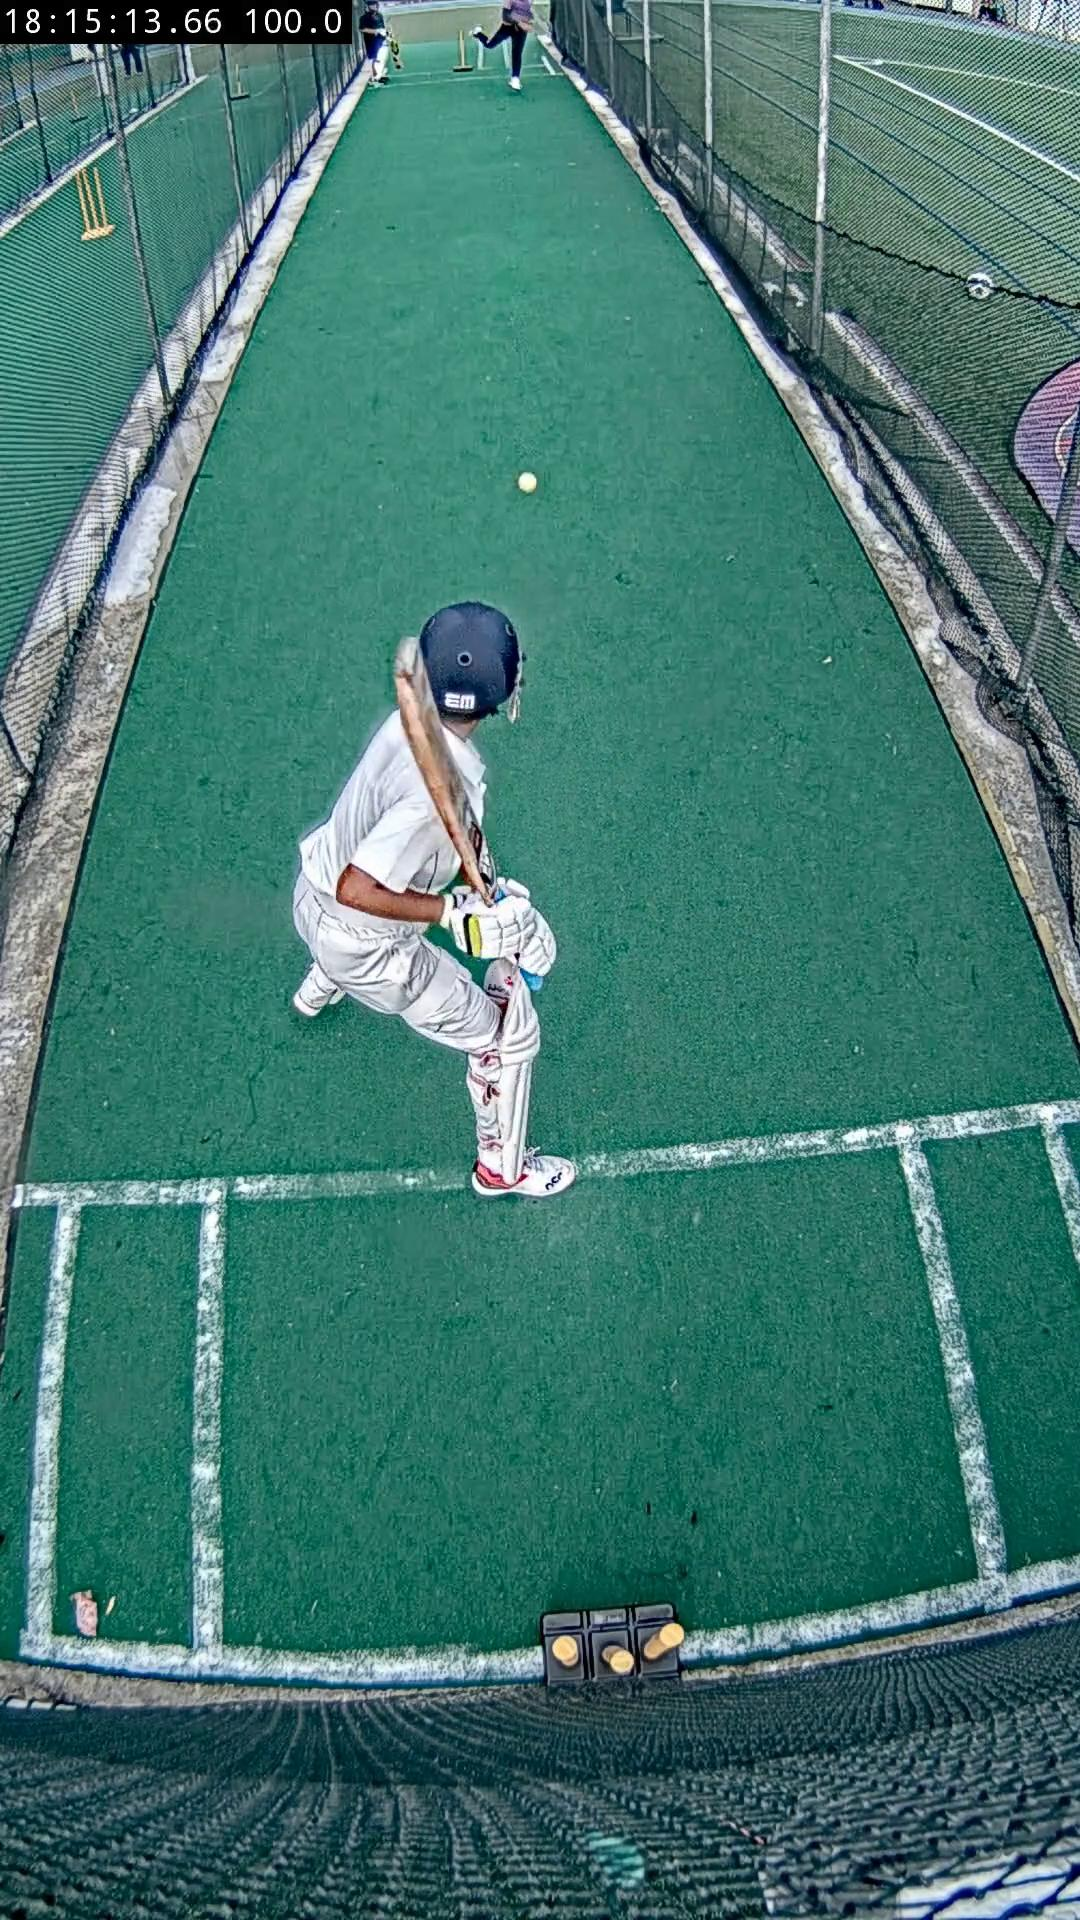ball: (517, 472, 537, 492)
bat: (394, 637, 488, 893)
gloves: (443, 877, 555, 975)
helmet: (419, 600, 521, 716)
pads: (484, 960, 541, 1182)
stumps: (541, 1605, 686, 1688)
